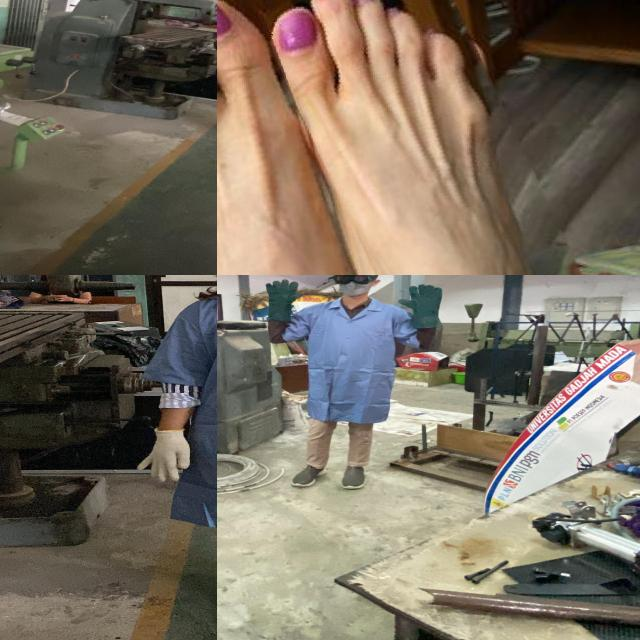Barefoots: (277, 0, 540, 275), (217, 1, 356, 275)
face_mask: (332, 275, 373, 295)
glasses: (322, 275, 377, 287)
hand_glove: (128, 428, 196, 485), (396, 284, 446, 316), (262, 276, 303, 304)
person: (258, 275, 451, 500), (138, 275, 217, 638)
shoes: (284, 460, 331, 490), (336, 461, 369, 492)
